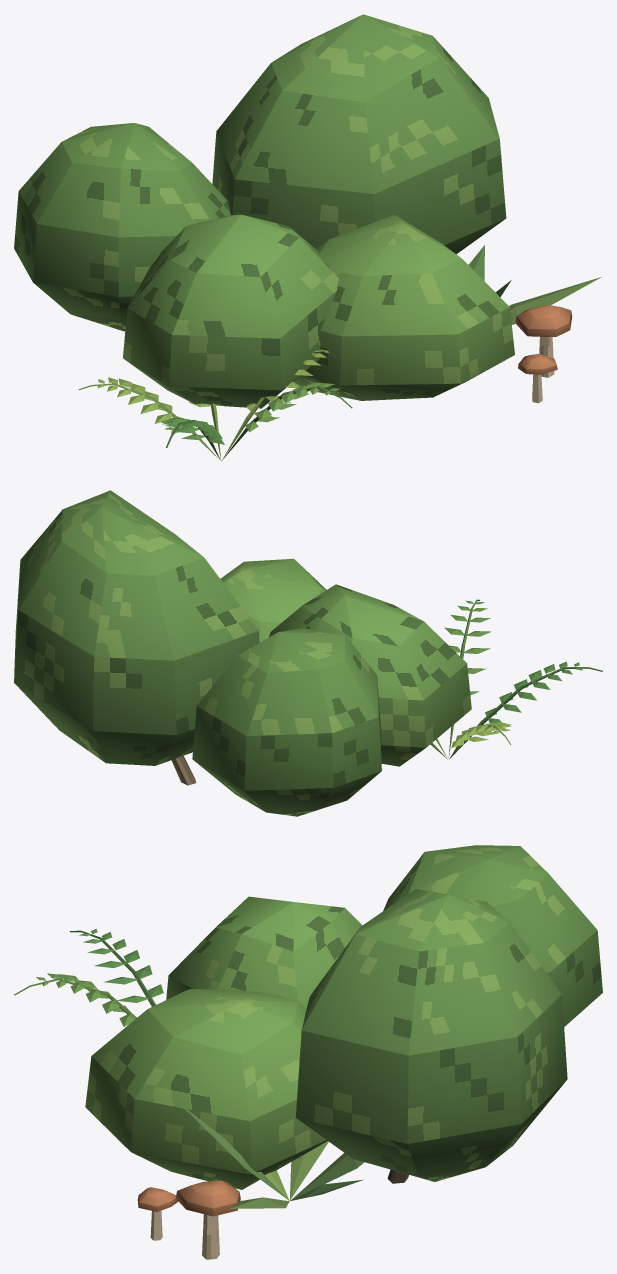
The model's file is t_underbrush.glb.
3 views of the same model, one above another, from view 1: azimuth 30°, elevation 25°; view 2: azimuth 150°, elevation 25°; view 3: azimuth 270°, elevation 25° (orthographic). The views are drawn at different scales.
Visible parts, largest first — view 1: t_underbrush_mesh; view 2: t_underbrush_mesh; view 3: t_underbrush_mesh.
Boxes of the visible parts, x1,y1,x2,y2 form: t_underbrush_mesh: (14,14,601,461); t_underbrush_mesh: (14,490,602,816); t_underbrush_mesh: (14,845,602,1259).
Bounding box in the file's own units: 1.06 × 0.59 × 0.9749.
Materials: 1 (1 with a texture image).
